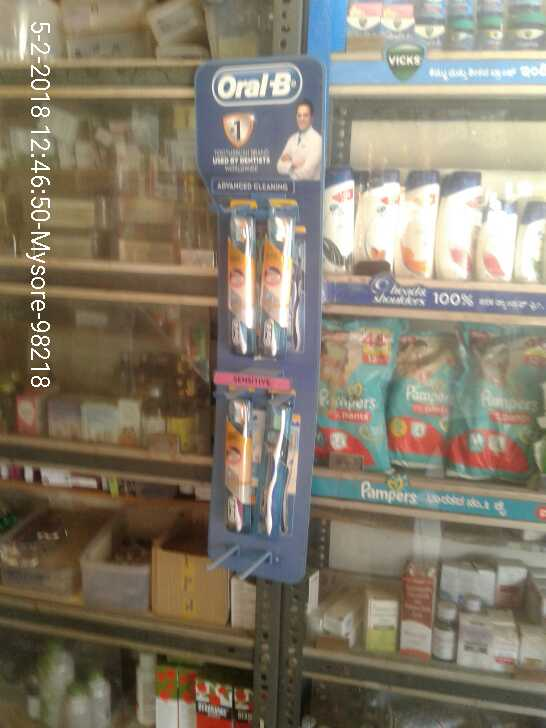beauty: (438, 159, 479, 280), (362, 163, 404, 274), (398, 175, 441, 272), (325, 170, 355, 272), (483, 198, 517, 279)
pharmacy: (446, 317, 546, 484), (319, 307, 395, 475), (346, 2, 543, 54), (387, 319, 448, 464), (265, 213, 306, 364), (219, 396, 259, 527), (231, 209, 263, 348), (259, 401, 290, 538)
